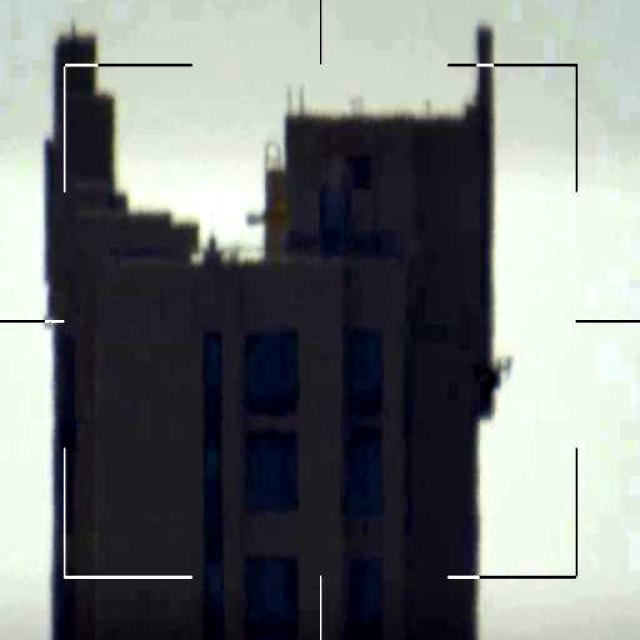bird: (464, 349, 524, 425)
